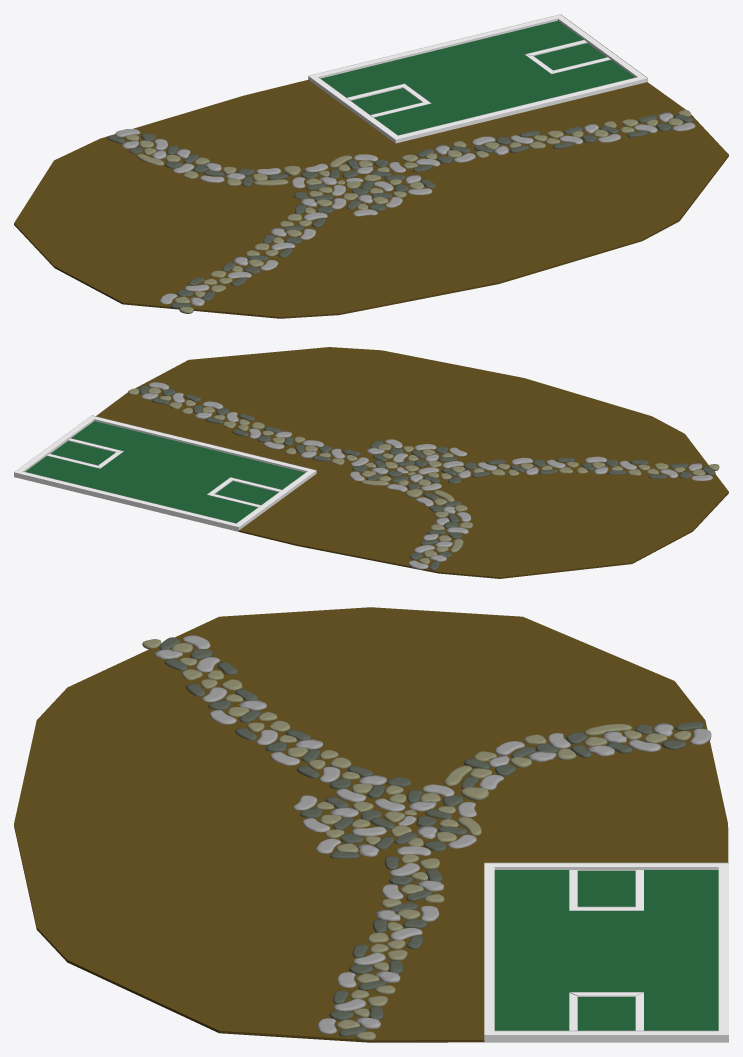
File: ParkPlane1.glb
The picture shows the model from 3 angles, top to bottom: view 1: azimuth 30°, elevation 25°; view 2: azimuth 150°, elevation 25°; view 3: azimuth 270°, elevation 25°; orthographic projection. The views are drawn at different scales.
Visible parts, largest first — view 1: Park1; view 2: Park1; view 3: Park1.
Boxes of the visible parts, x1,y1,x2,y2 form: Park1: (14, 14, 728, 318); Park1: (14, 347, 728, 578); Park1: (14, 607, 728, 1042).
Size of the model in its own units: 152 by 1.27 by 106.
